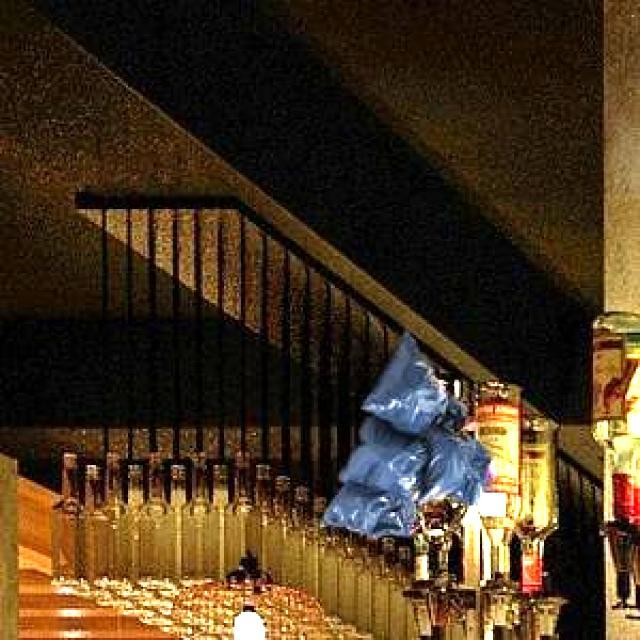Garbage_Bag: (317, 328, 494, 534)
